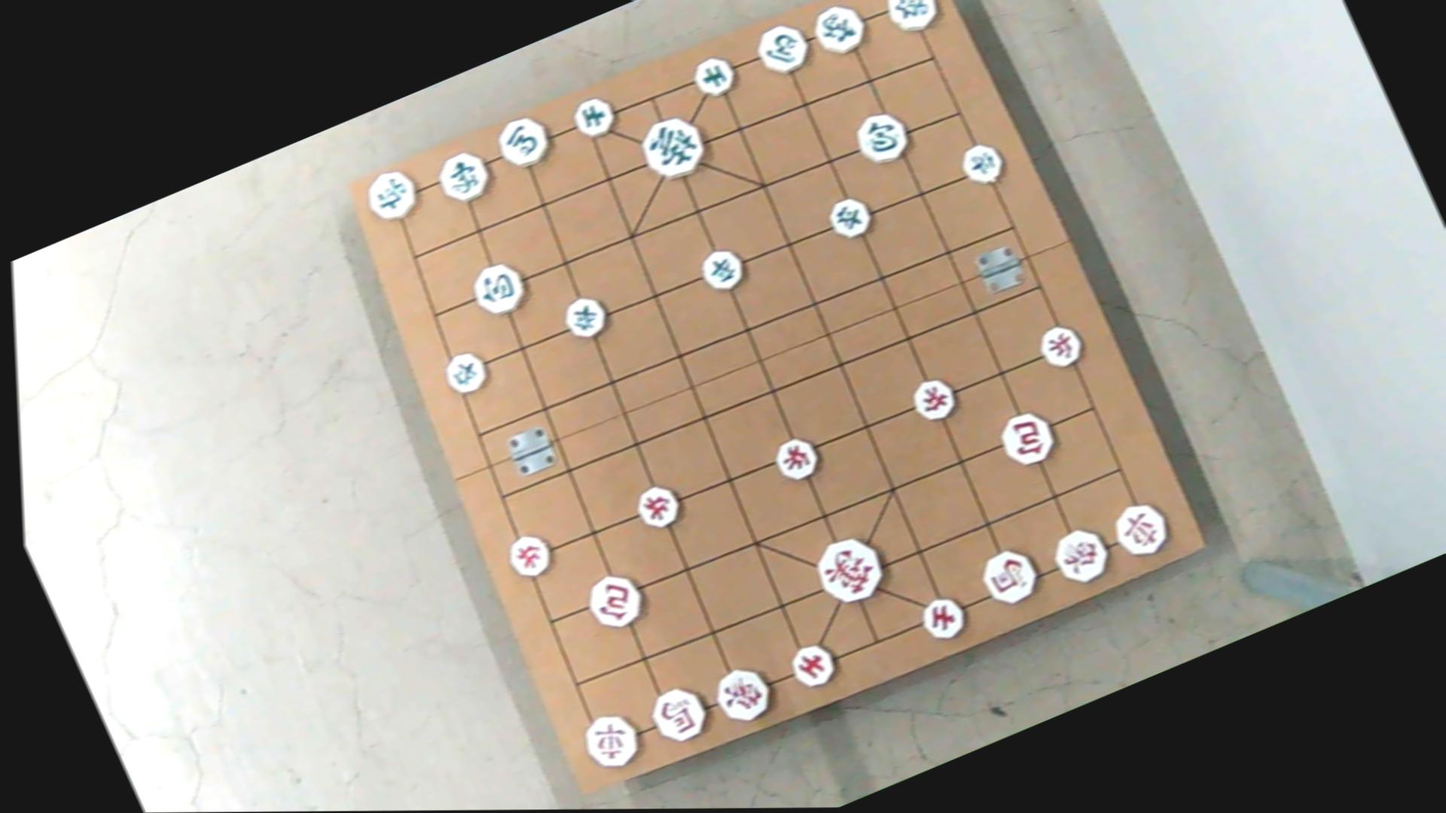cha_green: (358, 166, 428, 227), (877, 0, 941, 36)
cha_red: (575, 710, 648, 775), (1106, 497, 1178, 562)
jol_green: (819, 190, 877, 243), (555, 291, 612, 340), (694, 244, 749, 294), (438, 349, 495, 397), (954, 140, 1008, 188)
jol_red: (629, 480, 688, 531), (904, 373, 961, 425), (1034, 322, 1091, 373), (769, 437, 825, 486), (501, 531, 557, 580)
ma_green: (490, 112, 557, 172), (750, 19, 817, 78)
ma_red: (976, 544, 1048, 609), (644, 683, 715, 747)
po_green: (466, 259, 535, 321), (848, 108, 917, 168)
po_red: (581, 568, 651, 631), (995, 408, 1063, 470)
sa_green: (685, 53, 739, 101), (568, 93, 622, 140)
sa_red: (911, 590, 972, 647), (782, 640, 840, 692)
sang_green: (432, 146, 499, 207), (804, 1, 871, 60)
sang_red: (703, 658, 777, 729), (1045, 519, 1118, 589)
wang_green: (633, 111, 714, 181)
wang_red: (806, 533, 892, 610)
